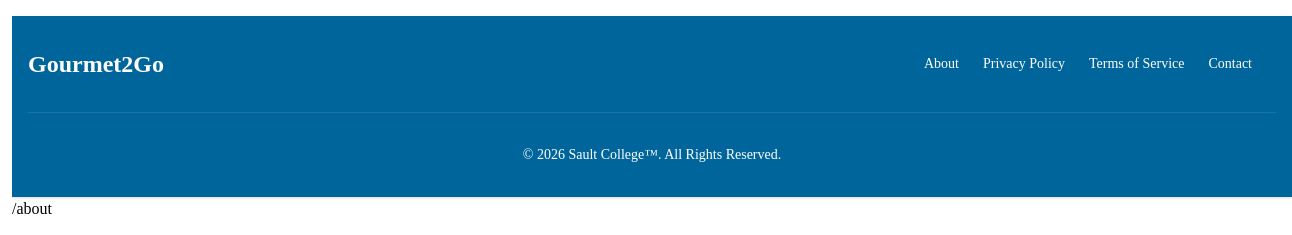
it: Footer component › navigates to Privacy Policy page when clicked
Click the link "Privacy Policy" at (1024, 64), box [983, 56, 1065, 71]
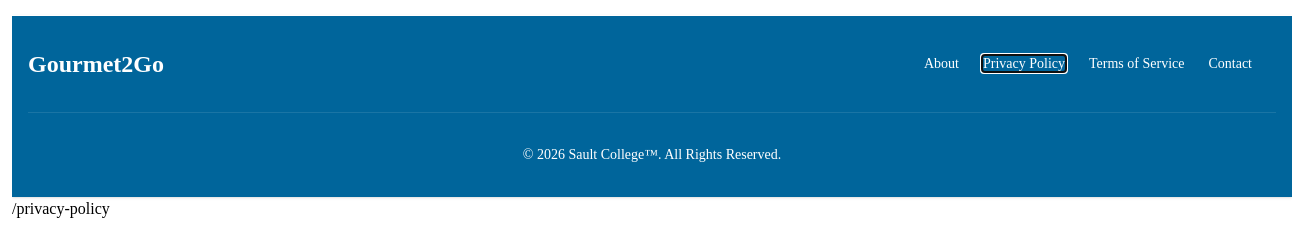
Check: the text with test id "location" reads "/privacy-policy", box [12, 200, 110, 217]
